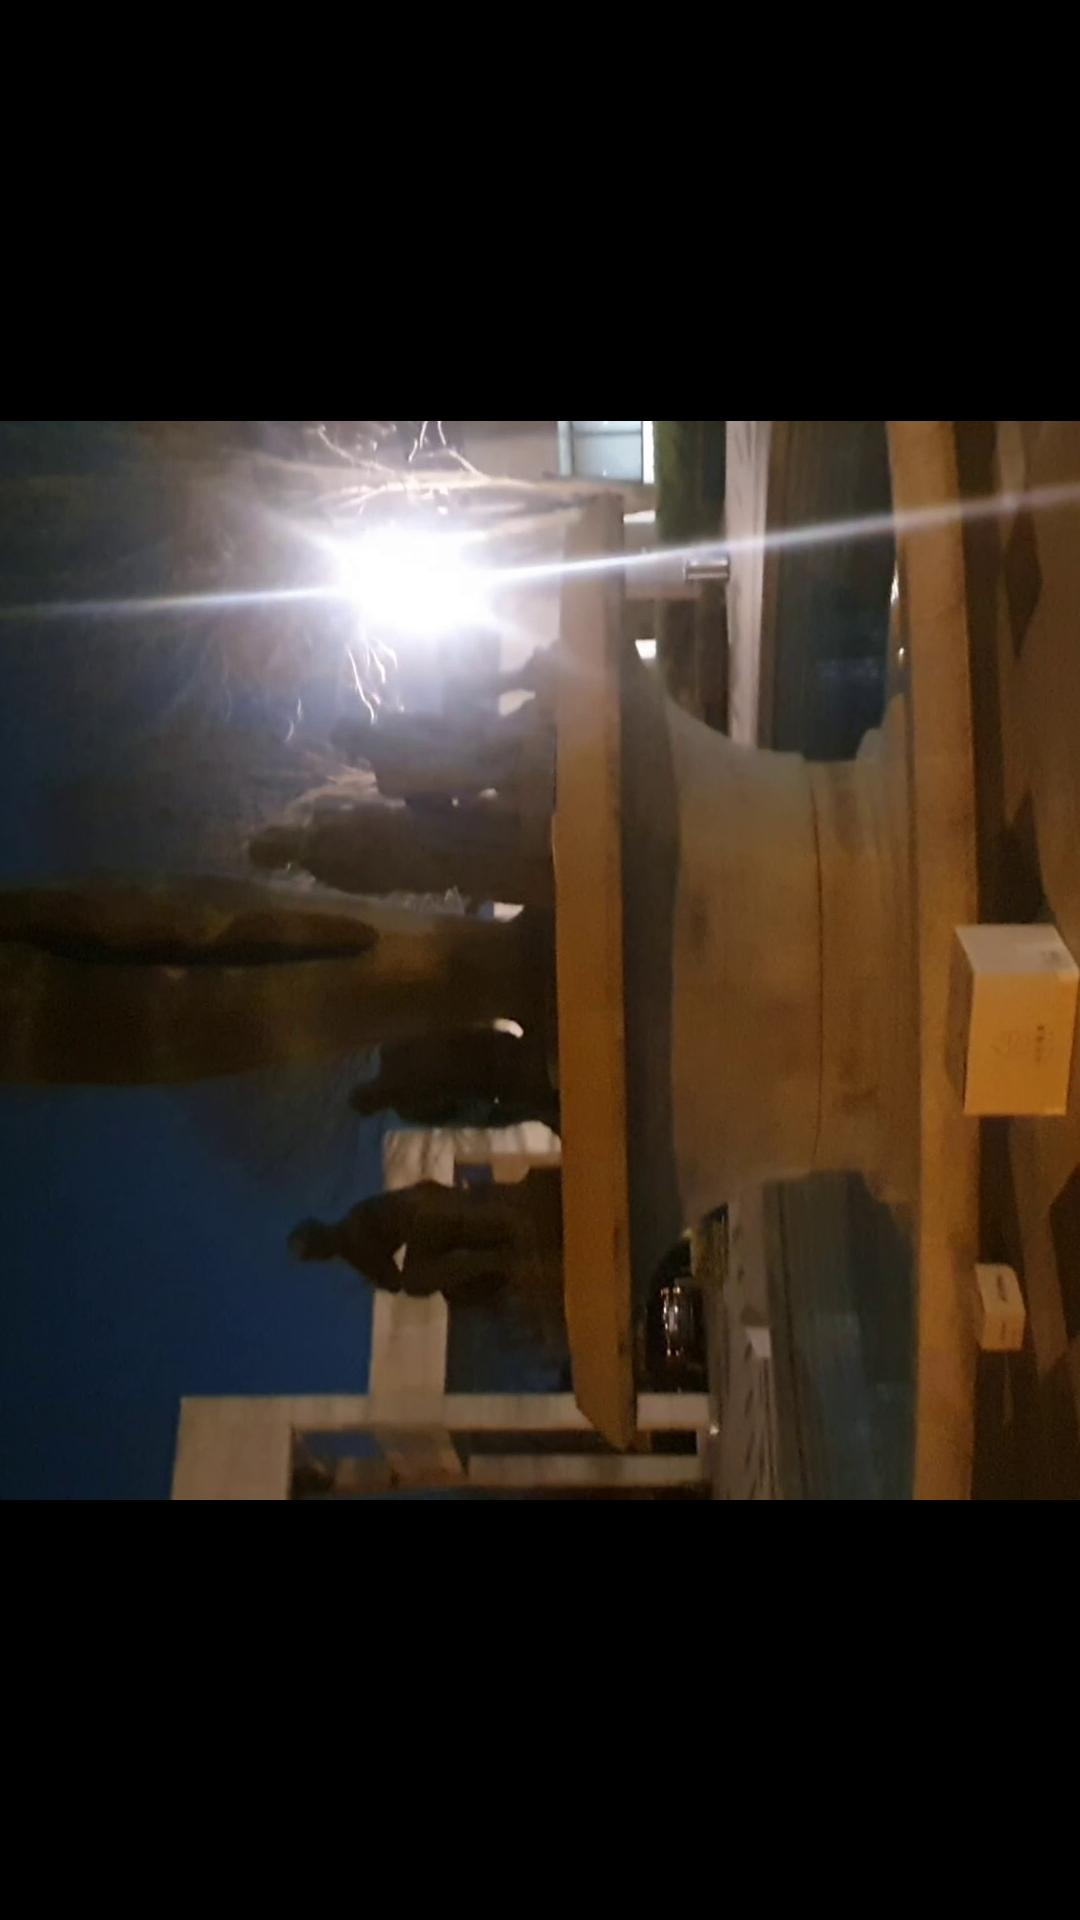Box: (934, 918, 1080, 1127), (949, 1247, 1036, 1364)
